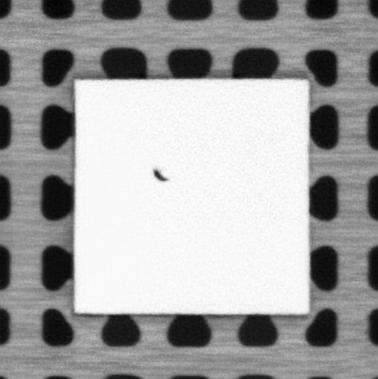DIE_INK: (152, 167, 170, 182)
